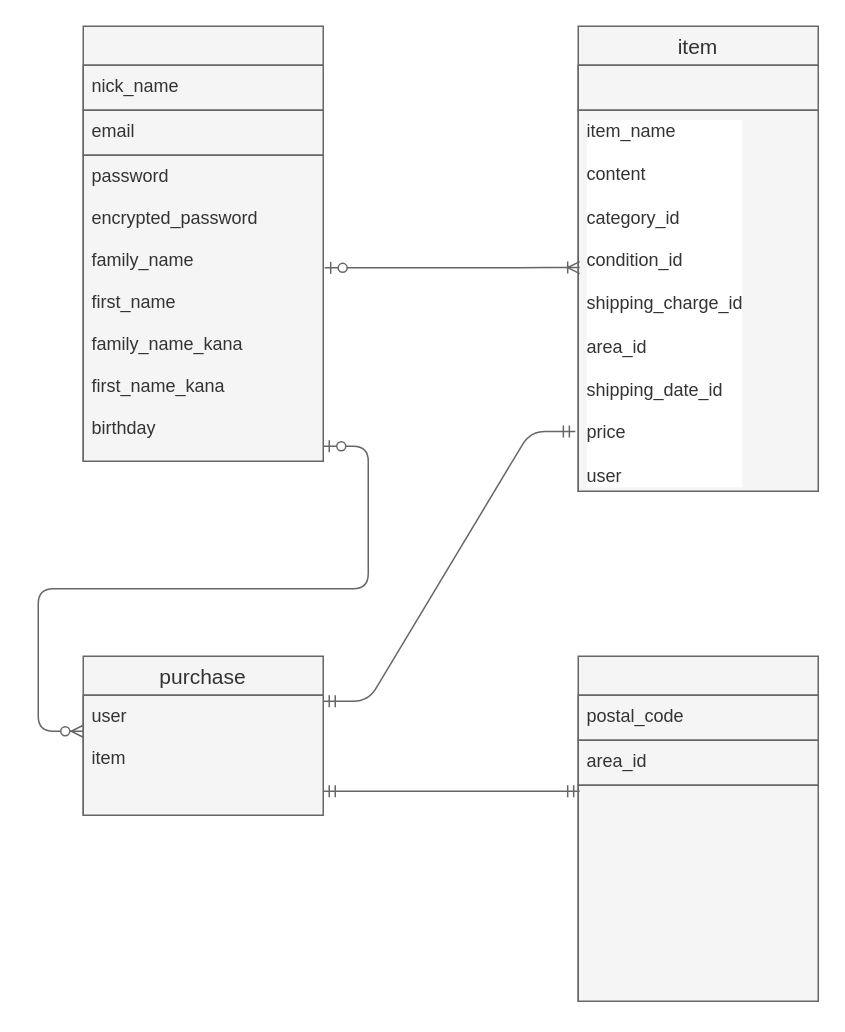
Image size: 845x1032. Some labels were removed from this diagram. The box of each missing label's shape, as (x1, y1, x2, y2) in pixels:
address: (577, 655, 818, 1001)
image: (577, 64, 818, 110)
municipality street_number building_name telephone_number purchase: (577, 784, 818, 1001)
user: (82, 25, 323, 461)
